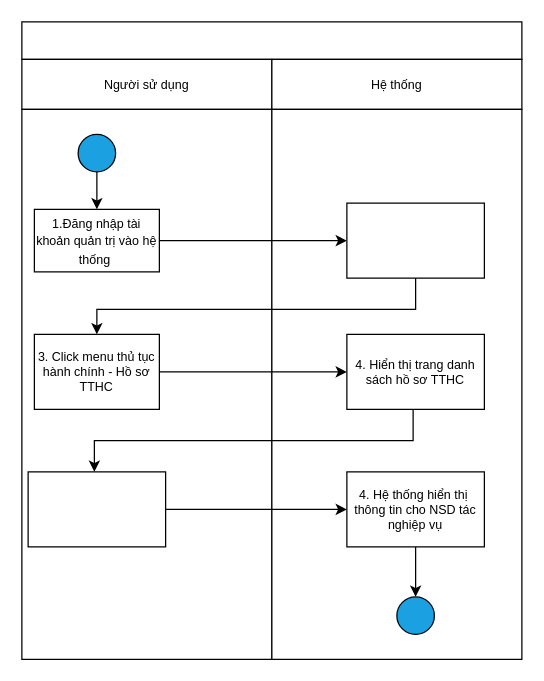
Image size: 544x681. Some labels were removed from this diagram. Here are the shapes that lost their labels. From the top down, the centre of each, then its label:
the point at 271,40: Quy trình quản lý hồ sơ TTHC
the point at 415,240: 2.Hiển thị trang quản trị
the point at 96,509: 4. Thực hiện các tác vụ sắp xếp, lựa chọn, tìm kiếm hồ sơ TTHC
